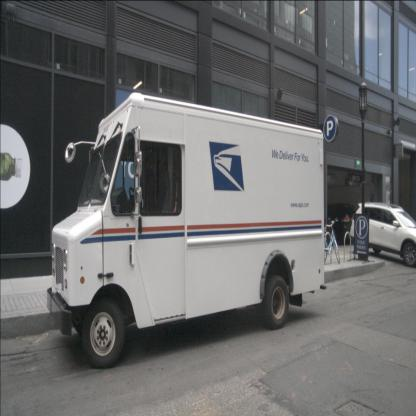vehicle-bicycle: (316, 217, 340, 264)
vehicle-car: (350, 202, 416, 268), (313, 203, 357, 246)
vehicle-truck: (47, 92, 327, 368)
